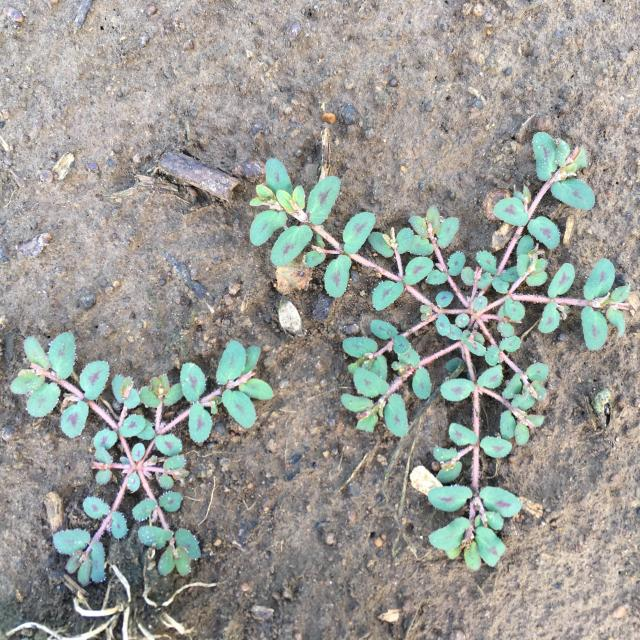SpottedSpurge: (250, 132, 632, 571), (10, 332, 275, 588)
